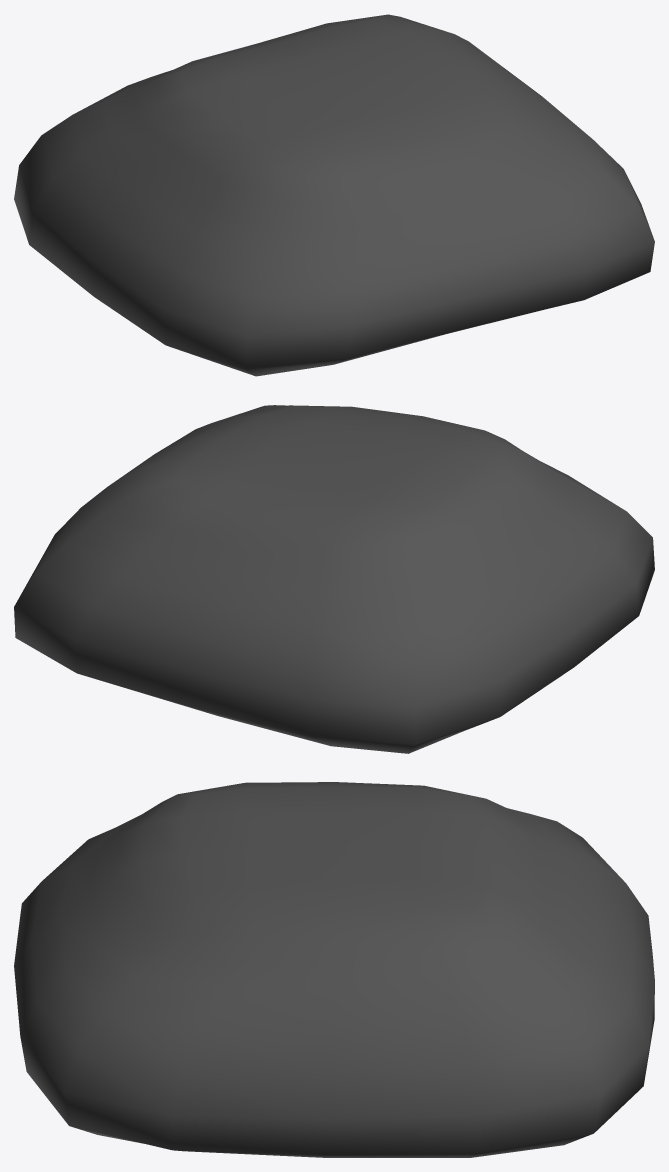
The model's file is Stone_01.fbx.
3 views of the same model, one above another, from view 1: azimuth 30°, elevation 25°; view 2: azimuth 150°, elevation 25°; view 3: azimuth 270°, elevation 25° (orthographic). The views are drawn at different scales.
Visible parts, largest first — view 1: Stone_01; view 2: Stone_01; view 3: Stone_01.
Part boxes in pixels (box(x1,y1,x2,y2)): Stone_01: box(14, 14, 654, 376); Stone_01: box(14, 405, 654, 753); Stone_01: box(14, 782, 654, 1157).
Bounding box in the file's own units: 105 × 37.45 × 106.
